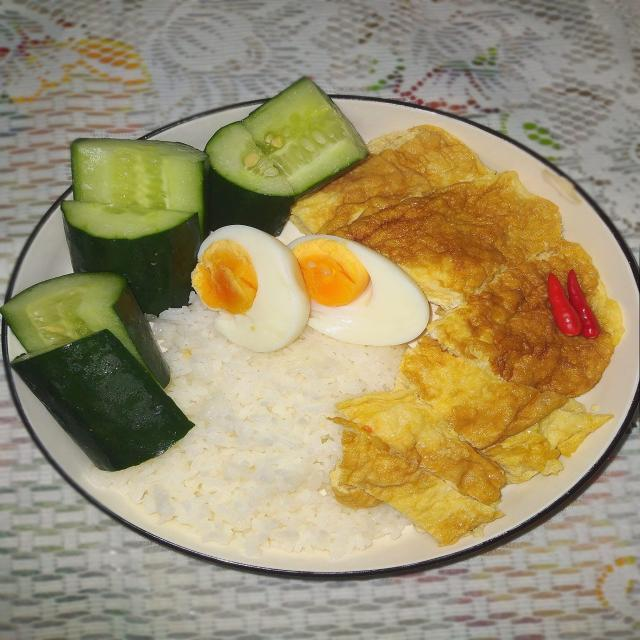Egg: (192, 125, 628, 549)
Plate: (12, 95, 639, 575)
Rice: (95, 296, 421, 547)
Vegetables: (4, 76, 367, 471)
